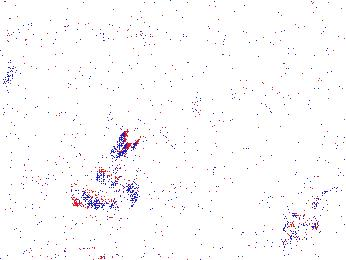flame jellyfish: (68, 130, 139, 217), (281, 188, 346, 247), (1, 44, 16, 86)
